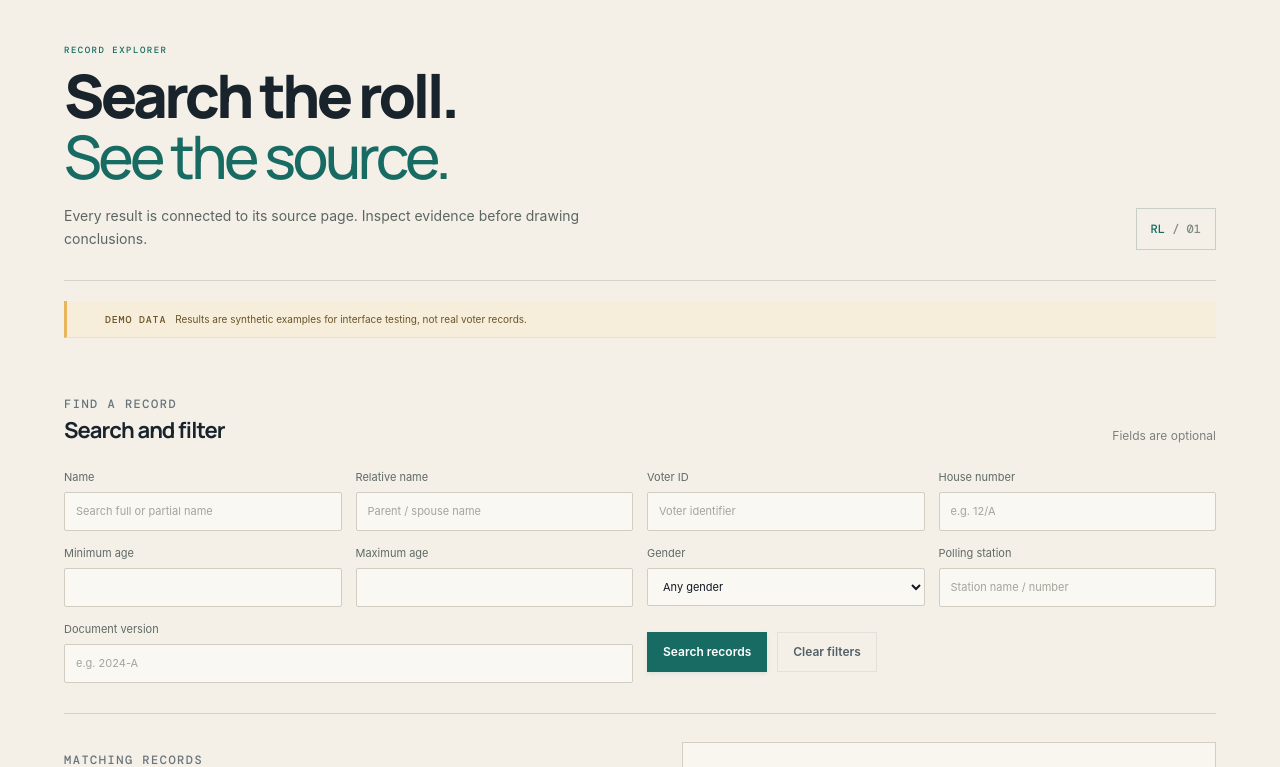
Test: ExplorePage › filters synthetic results by name and opens evidence
In the field labelled "Name": coordinates (203, 512) [64,492,342,531], type "Meera"
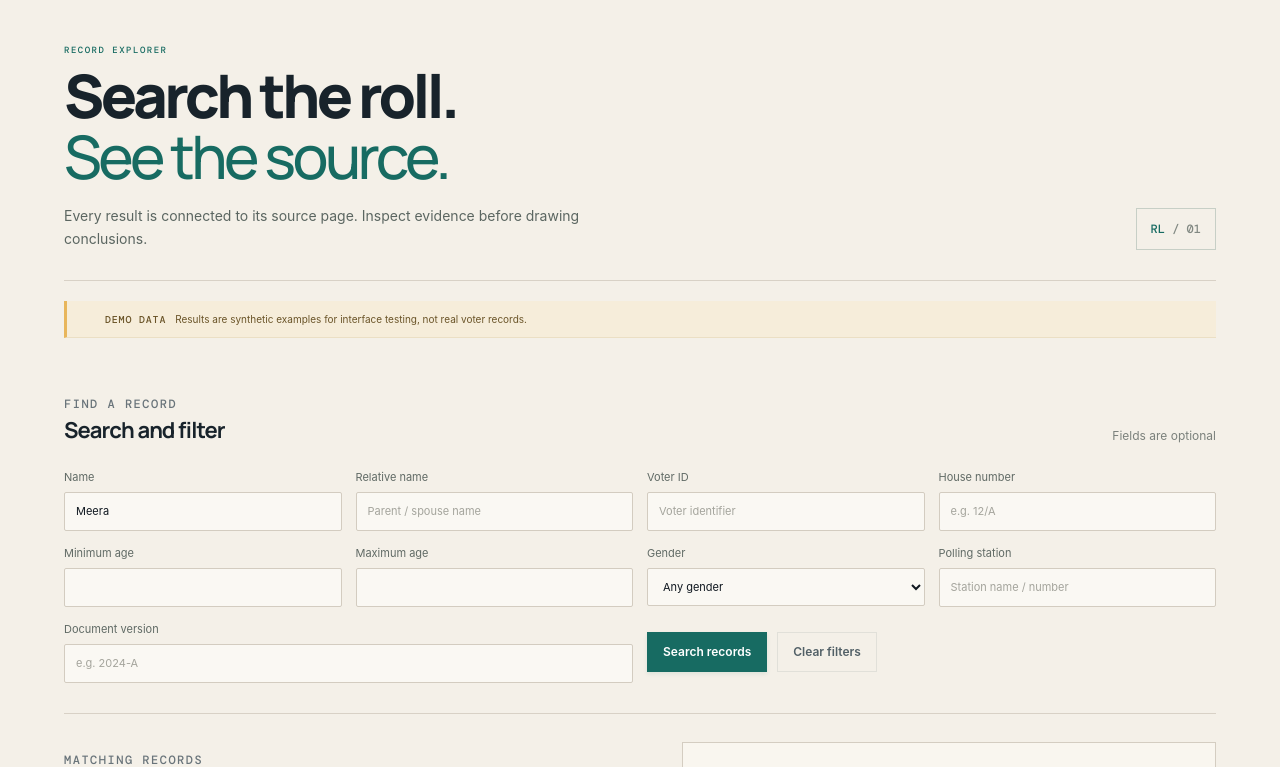
Click the button "Search records": coordinates (707, 652) [647,632,767,672]
(page scrolled)
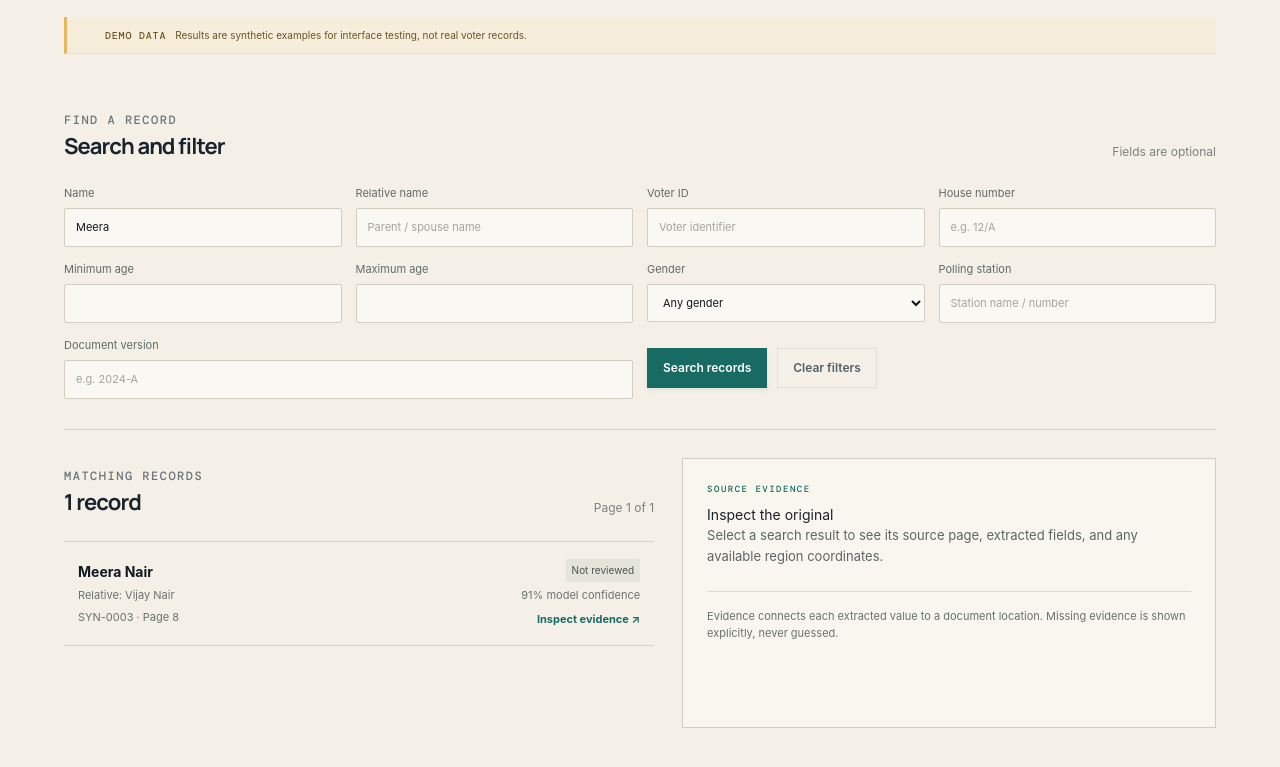
Expected: the text "Meera Nair" is shown, [78,563,153,580]
Click the button "Meera Nair": coordinates (115, 572) [64,542,654,646]
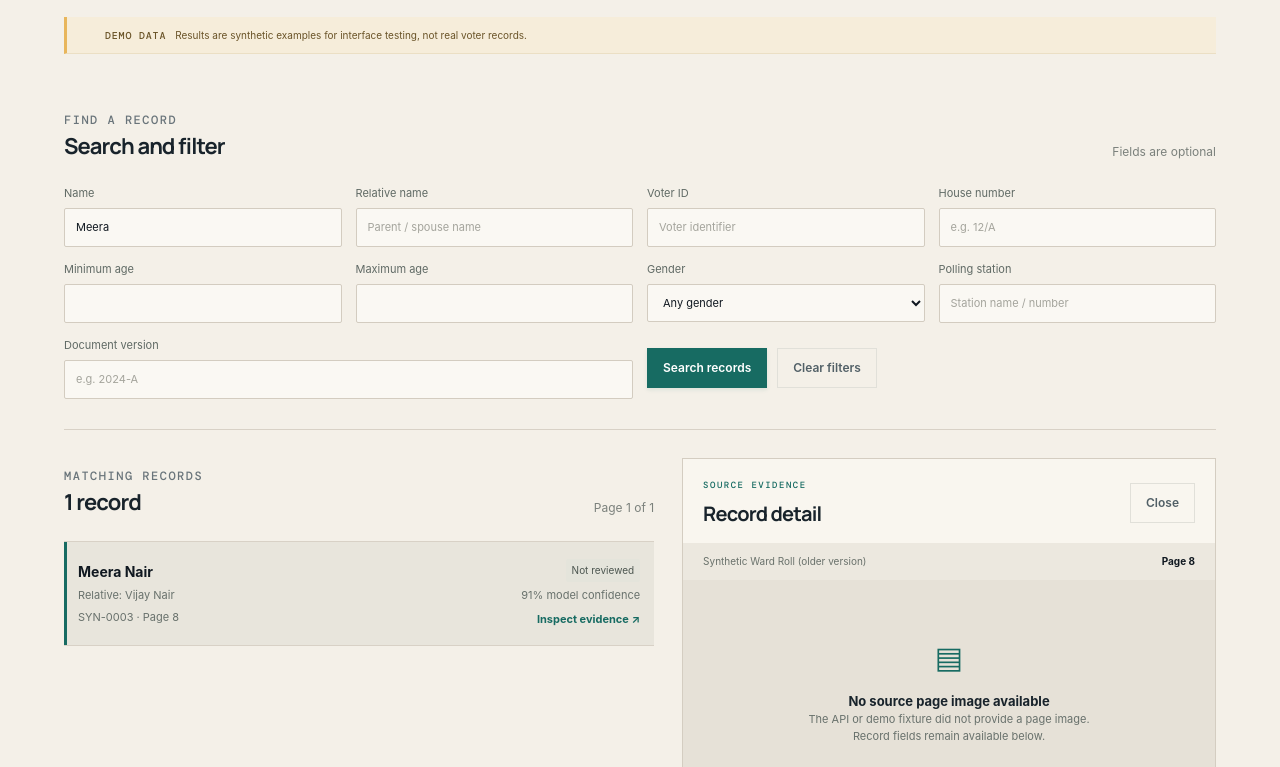
Result: the heading "Record detail" is shown at [703,500,821,527]
Result: the text "No source page image available" is shown at [848,693,1050,709]
